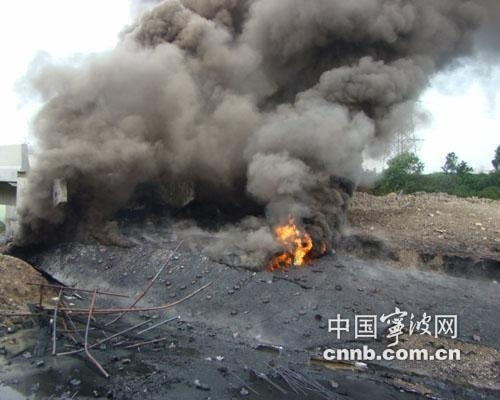fire: (268, 217, 316, 270)
